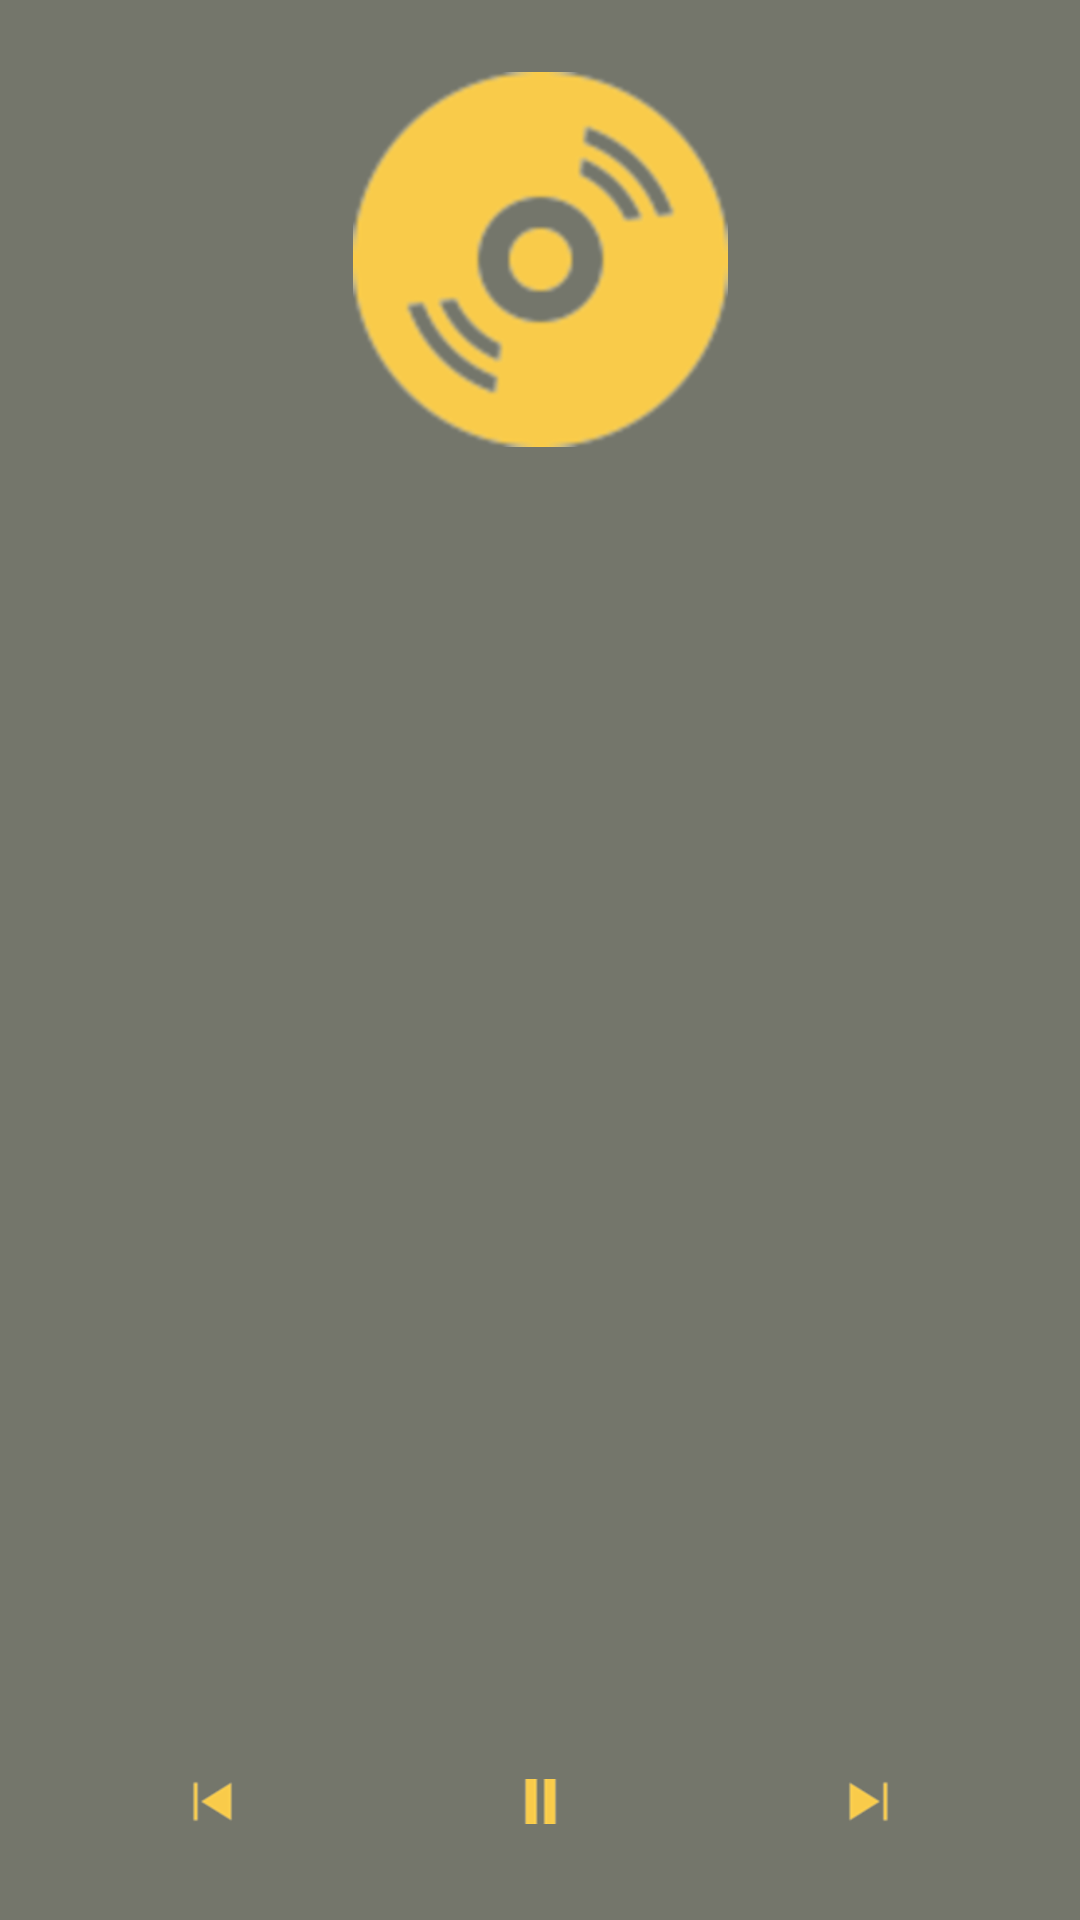

Icon bounding boxes for this 1080×1920 phone screenshot, format {"left": x1, "top": y1, "right": x2, "bottom": y2}:
next: {"left": 849, "top": 1782, "right": 888, "bottom": 1821}
pause: {"left": 525, "top": 1779, "right": 556, "bottom": 1824}
previous: {"left": 193, "top": 1782, "right": 232, "bottom": 1821}
